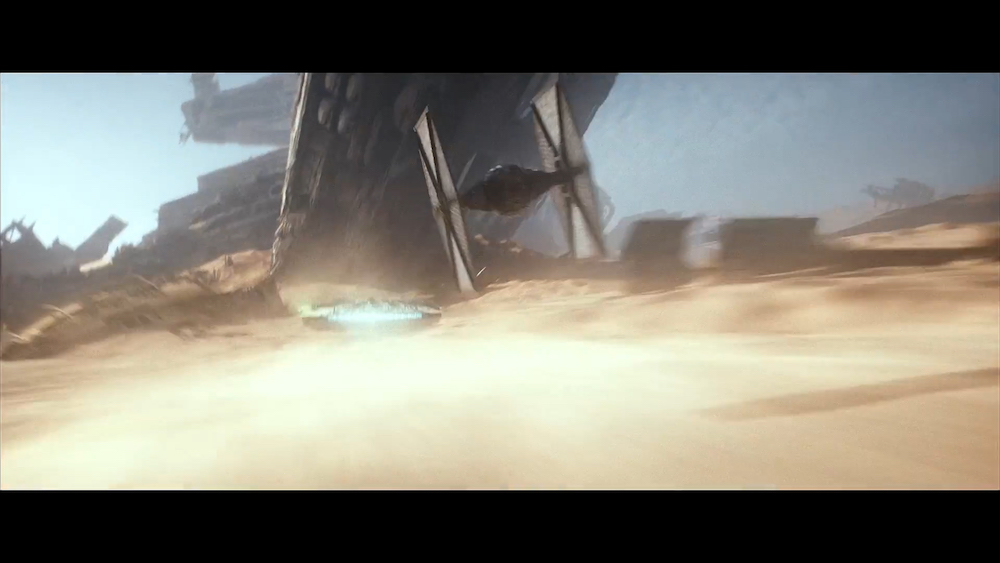Millennium Falcon: (300, 297, 443, 336)
Tie Fighter: (411, 81, 609, 299)
